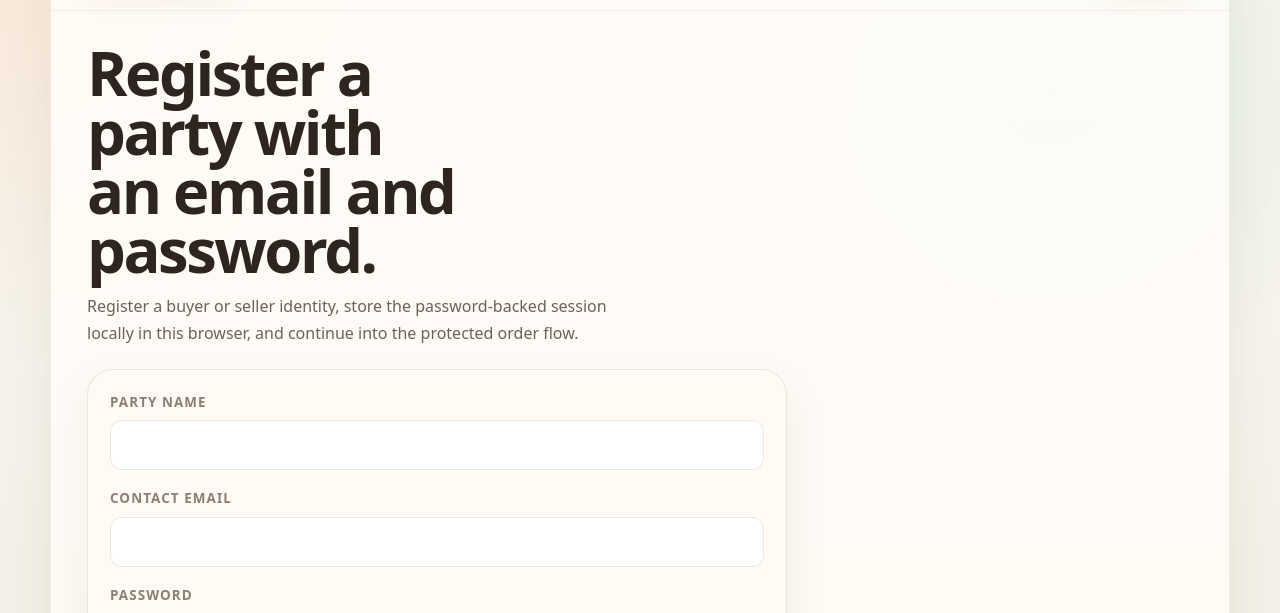
RegisterPage › shows duplicate-email failures returned by the backend
Type "Acme Books" into the field labelled "Party name".
click(437, 445); type("Acme Books")  # box [110,420,764,470]
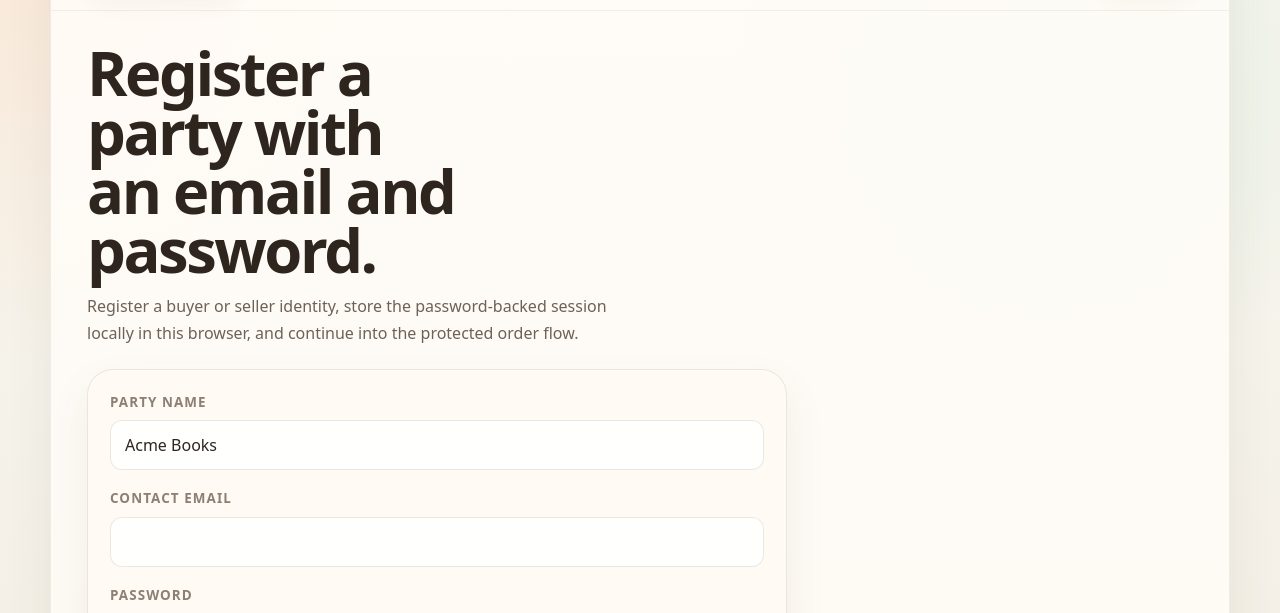
Type "team@acmebooks.com" into the field labelled "Contact email".
click(437, 542); type("team@acmebooks.com")  # box [110,517,764,567]
(page scrolled)
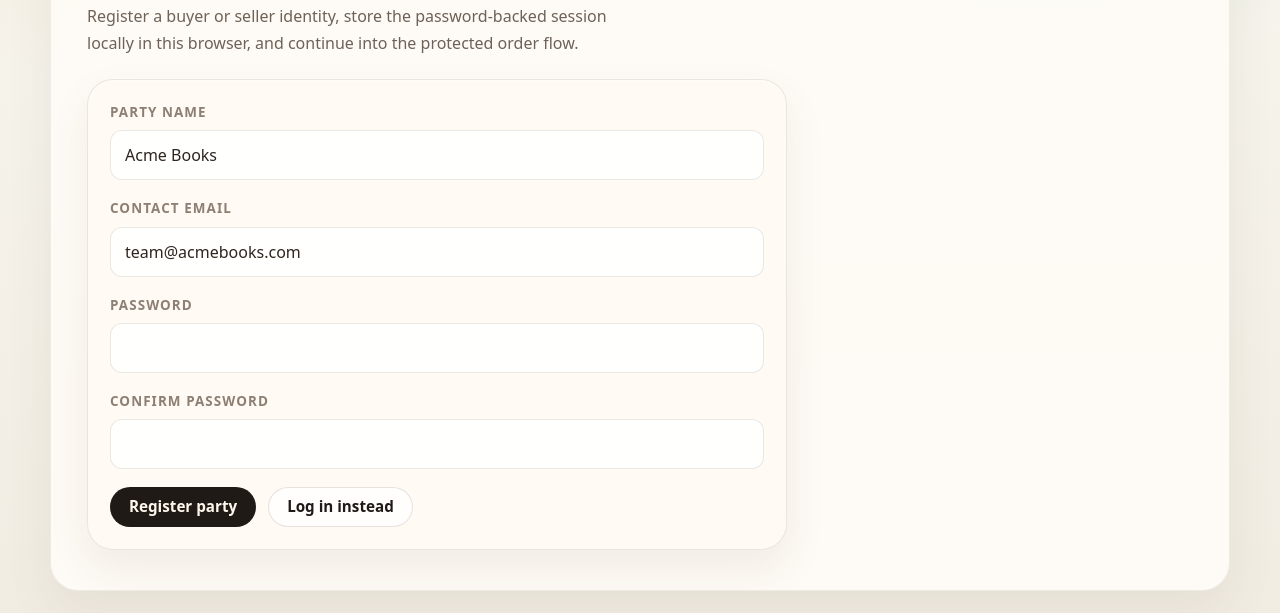
Type "super-secure-password" into the password field labelled "Password".
click(437, 348); type("super-secure-password")  # box [110,323,764,373]
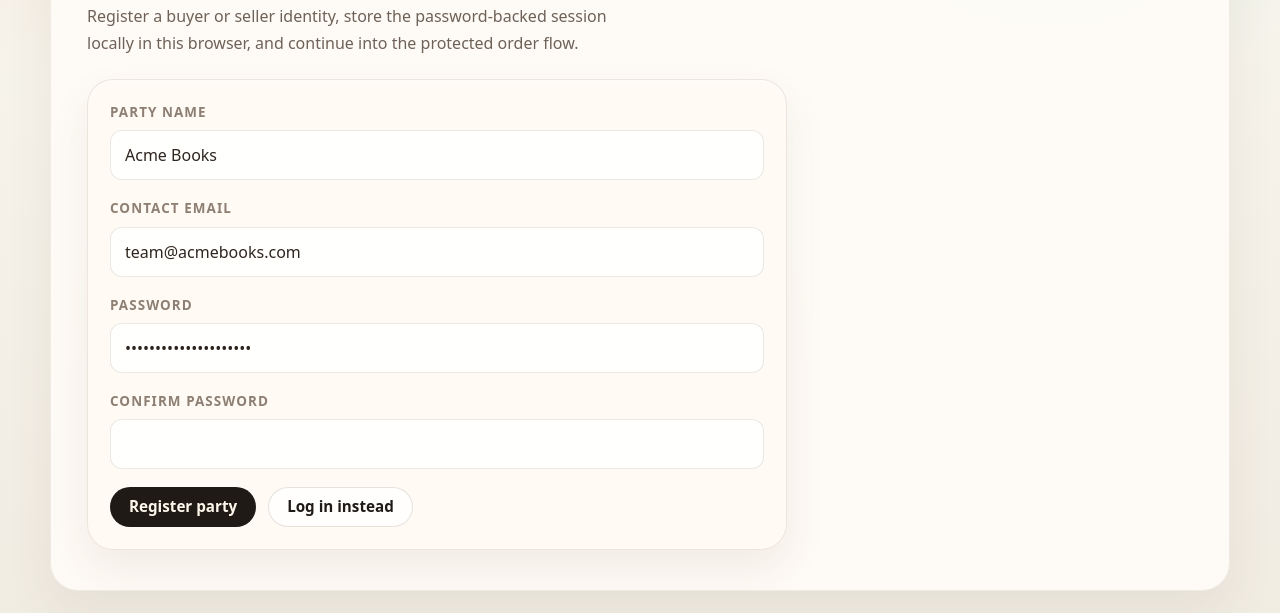
Type "super-secure-password" into the password field labelled "Confirm password".
click(437, 444); type("super-secure-password")  # box [110,419,764,469]
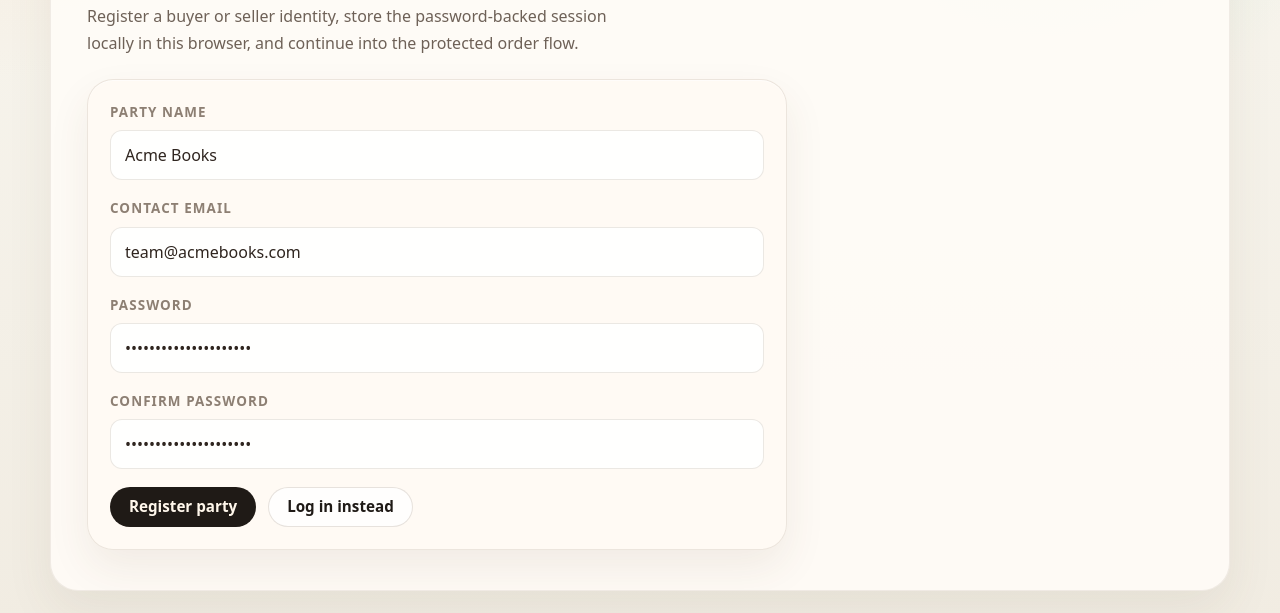
Click the button "Register party".
click(183, 507)  # box [110,487,256,527]
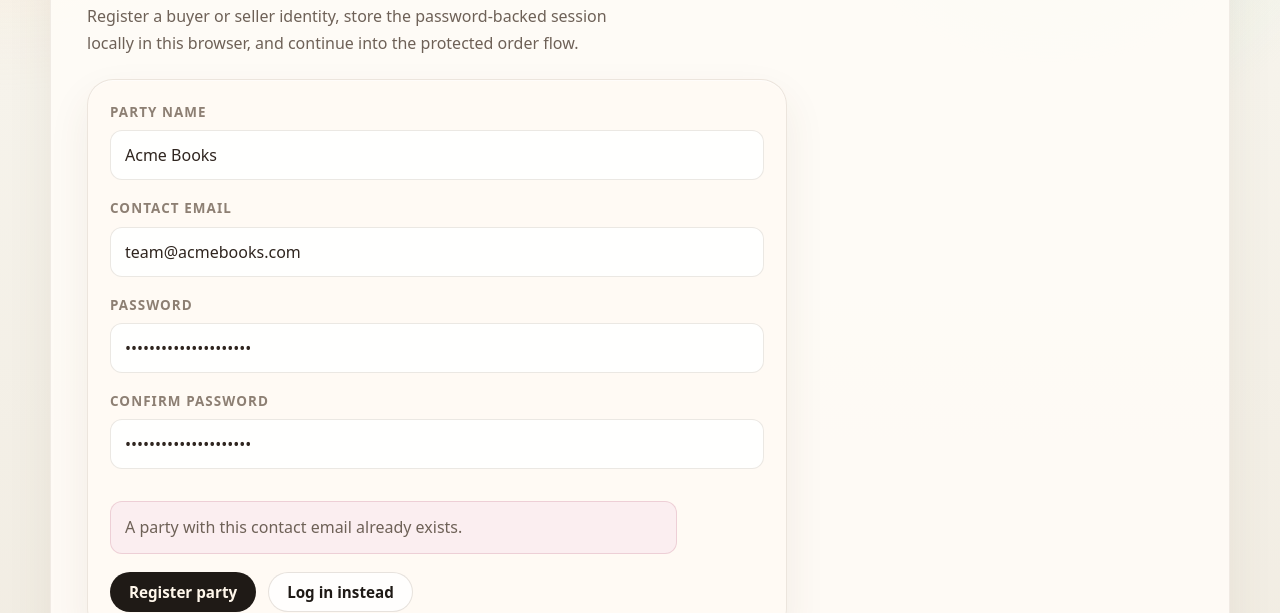
Check: the text "A party with this contact email already exists." is shown, box [110,501,677,554]
